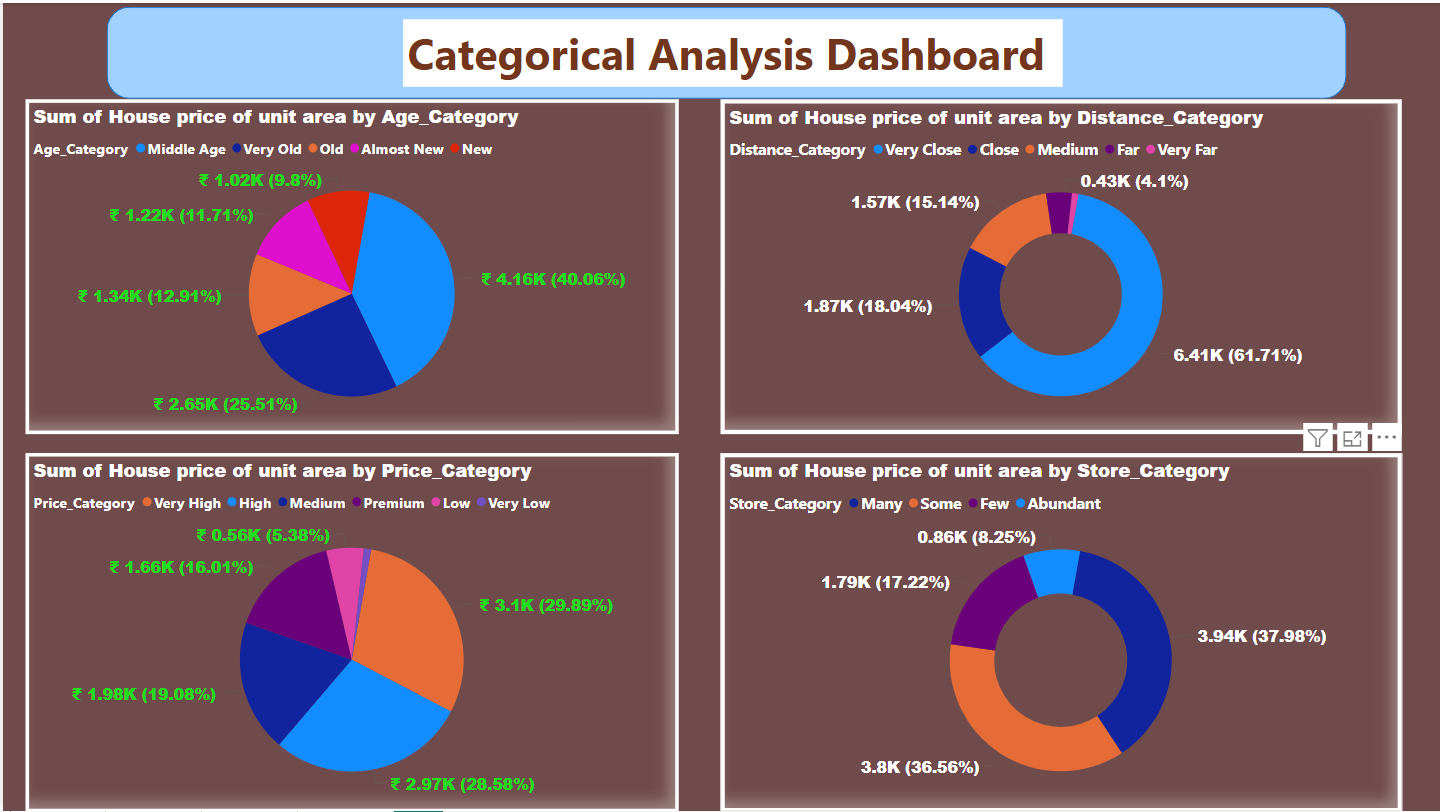

The page's visual inventory and layout, read from the dashboard file:
{"tool":"powerbi","page":{"name":"Page 3","canvas":[1600,900],"ordinal":2},"visuals":[{"type":"pieChart","fields":{"Category":["cleaned_real_estate_data.Age_Category"],"Y":["Sum(cleaned_real_estate_data.House price of unit area)"]},"box":[25.6,107.1,726.9,372.5],"z":0},{"type":"donutChart","fields":{"Category":["cleaned_real_estate_data.Distance_Category"],"Y":["Sum(cleaned_real_estate_data.House price of unit area)"]},"box":[799.3,107.1,758.5,372.5],"z":1},{"type":"pieChart","fields":{"Category":["cleaned_real_estate_data.Price_Category"],"Y":["Sum(cleaned_real_estate_data.House price of unit area)"]},"box":[25.6,500.7,726.9,399.6],"z":4},{"type":"donutChart","fields":{"Y":["Sum(cleaned_real_estate_data.House price of unit area)"],"Category":["cleaned_real_estate_data.Store_Category"]},"box":[799.3,500.7,758.5,399.6],"z":5},{"type":"shape","box":[116.1,4.5,1379.9,102.5],"z":6},{"type":"textbox","box":[444.9,18.1,734.4,75.4],"z":7}]}

Visuals, with their boxes in screenshot pixels (x1, y1, x2, y2), scaled from the page's 1600x900 canvas onto the 1440x812 screenshot:
pieChart - cleaned_real_estate_data.Age_Category x Sum(cleaned_real_estate_data.House price of unit area): 23,97,677,433
donutChart - cleaned_real_estate_data.Distance_Category x Sum(cleaned_real_estate_data.House price of unit area): 719,97,1402,433
pieChart - cleaned_real_estate_data.Price_Category x Sum(cleaned_real_estate_data.House price of unit area): 23,452,677,811
donutChart - Sum(cleaned_real_estate_data.House price of unit area) x cleaned_real_estate_data.Store_Category: 719,452,1402,811
shape: 104,4,1346,97
textbox: 400,16,1061,84
